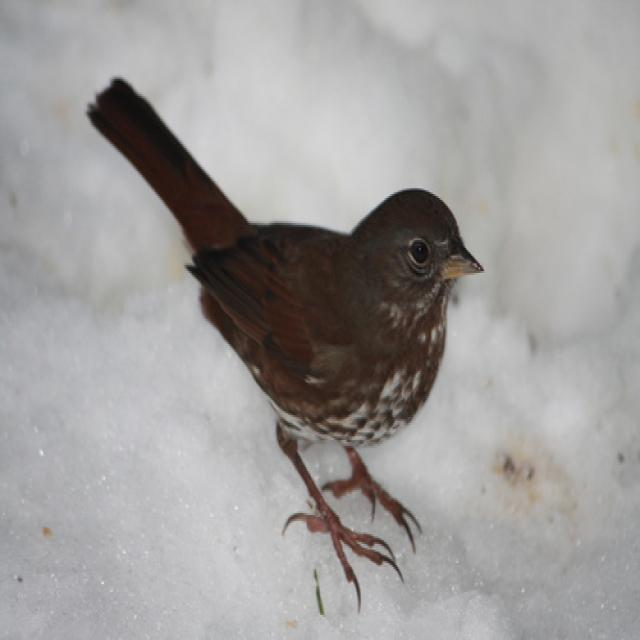not_pig: (85, 73, 485, 613)
